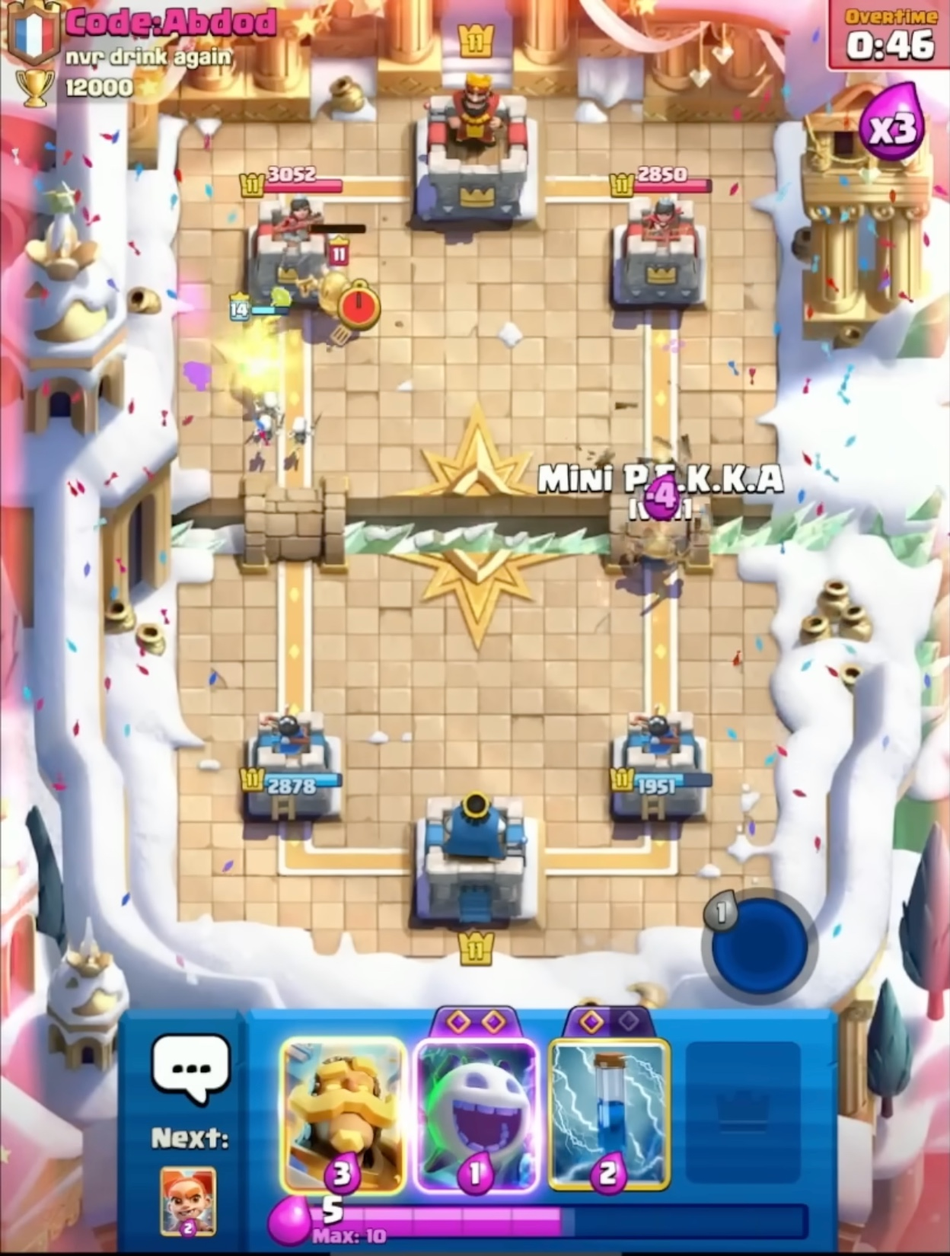hero-mini-pekka: (294, 220, 387, 351)
